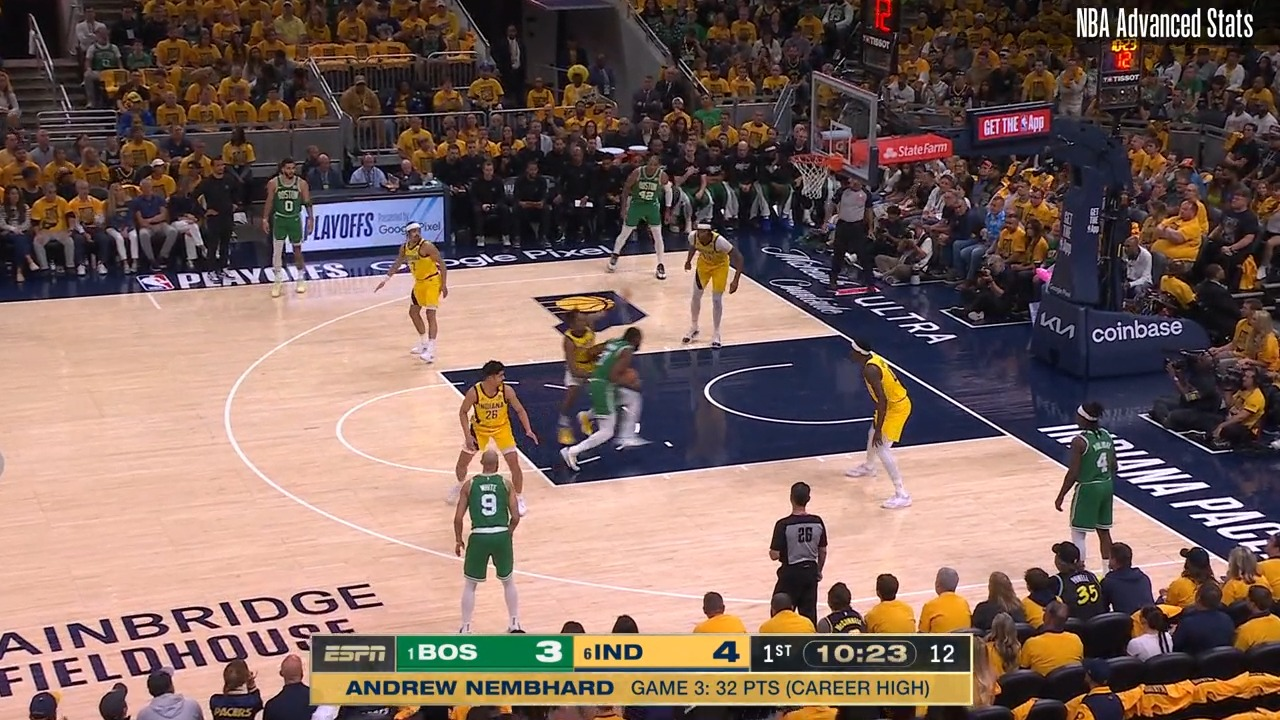basketball: (619, 367, 642, 388)
